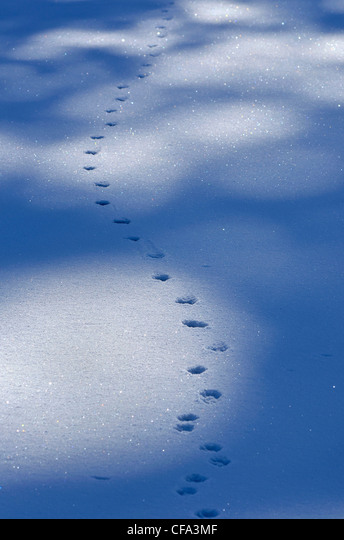fox: (205, 456, 235, 469), (178, 483, 199, 499), (173, 422, 197, 436)
